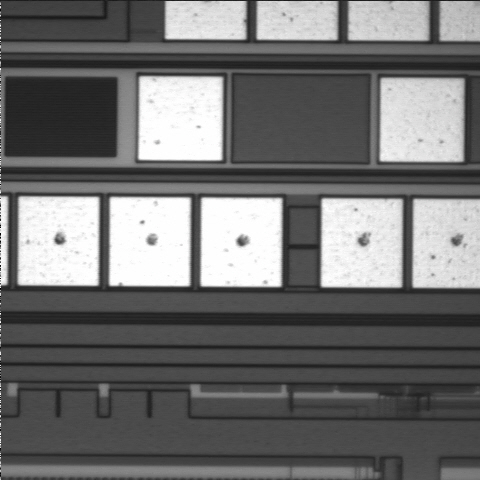pad: (109, 197, 191, 286), (200, 198, 282, 287), (138, 76, 223, 161), (18, 197, 99, 286), (321, 199, 402, 287), (380, 78, 463, 162)
